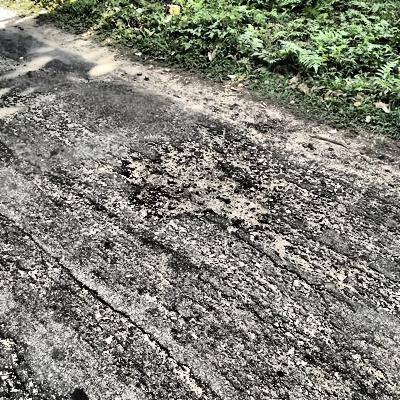pothole: (118, 139, 268, 227)
